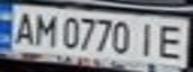0: (112, 18, 136, 56), (57, 14, 81, 50)
7: (93, 16, 115, 53), (75, 15, 96, 52)
A: (9, 8, 39, 46)
E: (154, 20, 190, 61)
I: (133, 19, 160, 57)
M: (30, 10, 60, 47)
